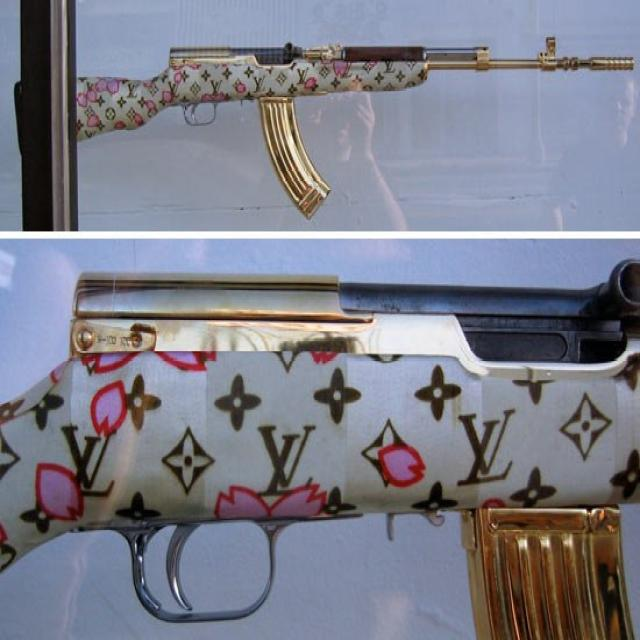firearm: (0, 253, 640, 640), (79, 36, 634, 218)
